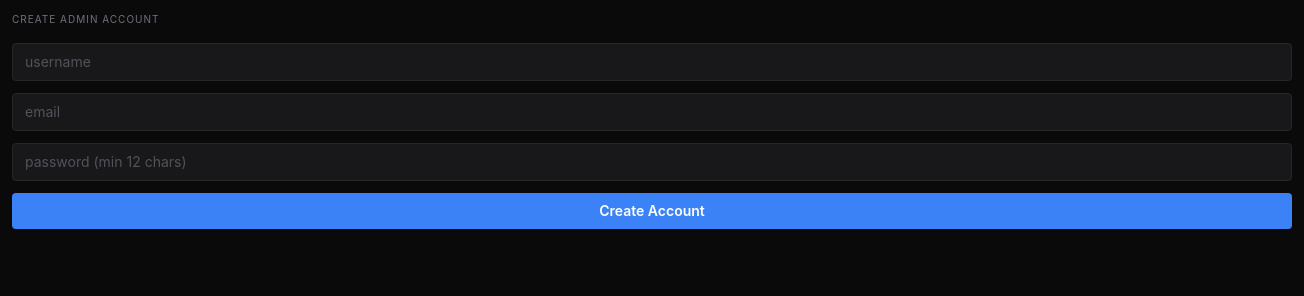
it: SetupPage › shows error when submission fails
Type "admin" into the field with placeholder "username" at (652, 62), box [12,43,1292,81]
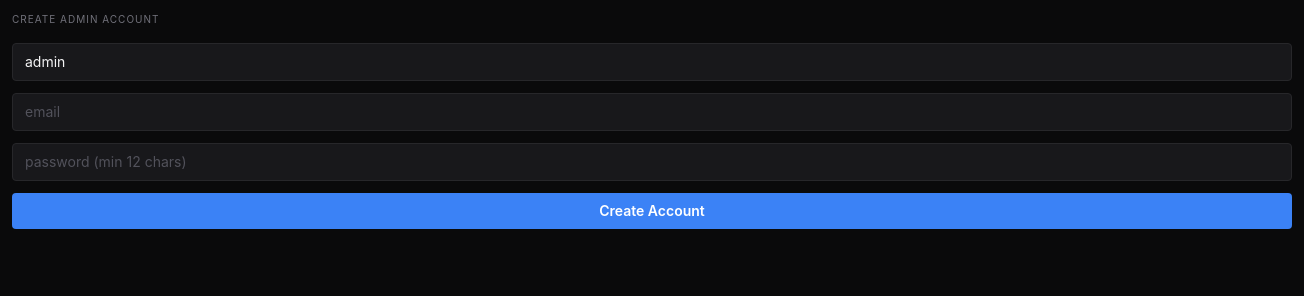
Type "a@b.com" into the field with placeholder "email" at (652, 112), box [12,93,1292,131]
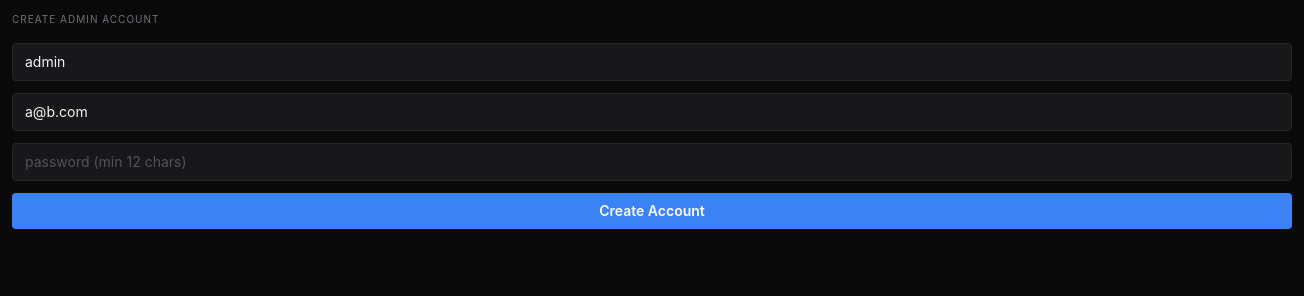
Type "ValidPass1@#$" into the password field with placeholder "password (min 12 chars)" at (652, 162), box [12,143,1292,181]
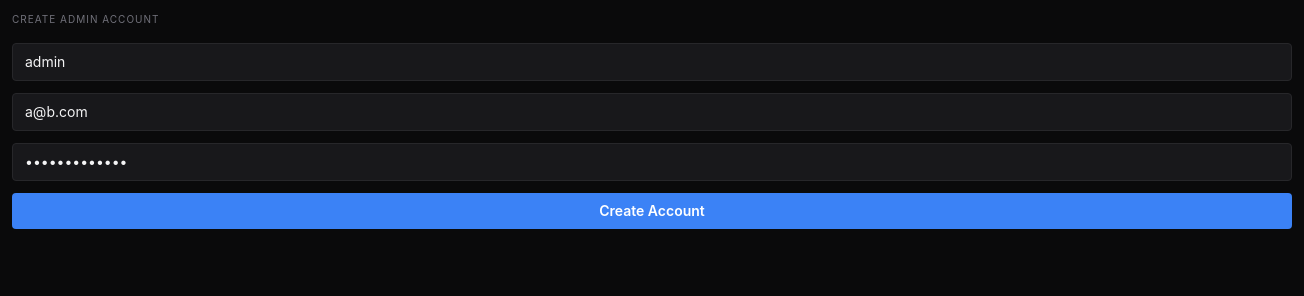
Submit the form "Create Admin Account Create Account"
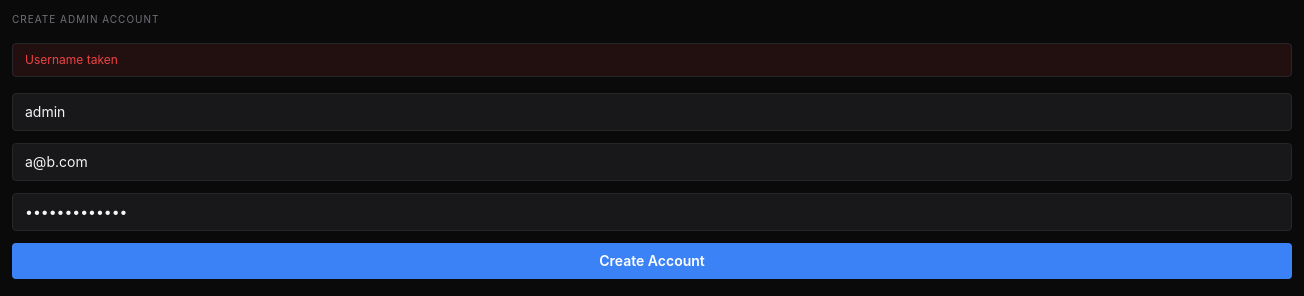
Expected: the text "Username taken" is shown, [12,43,1292,77]
